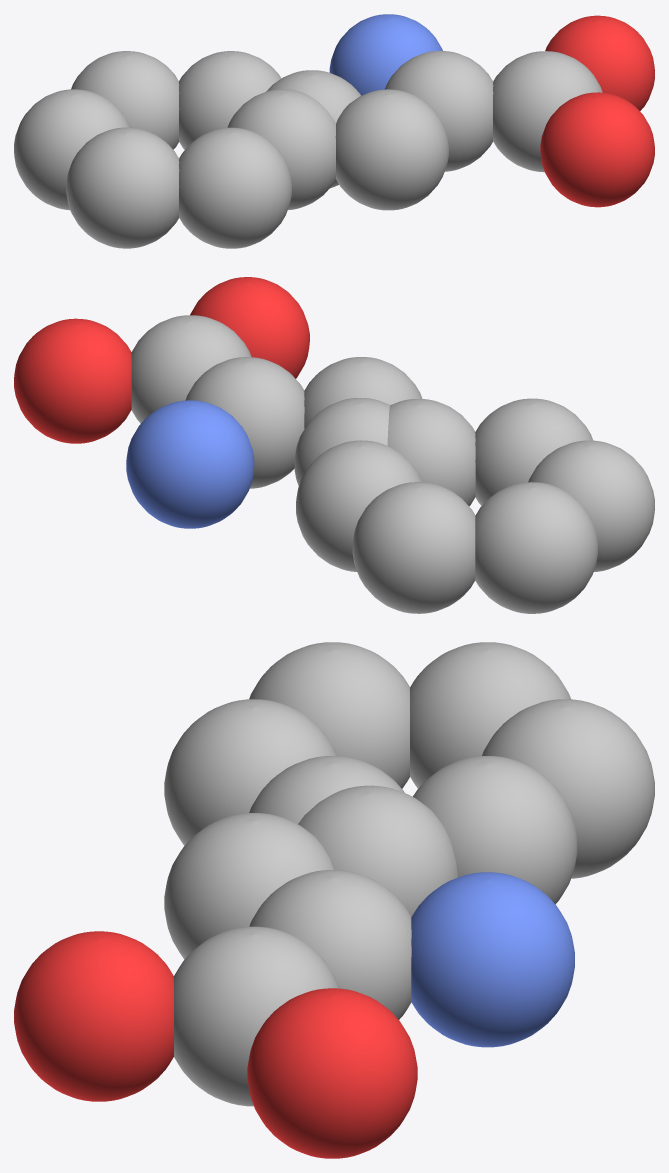
The model's file is phenylalanine.glb.
3 renders of one model, top to bottom at view 1: azimuth 30°, elevation 25°; view 2: azimuth 150°, elevation 25°; view 3: azimuth 270°, elevation 25°, orthographic. The views are drawn at different scales.
Parts seen in each view (by area): view 1: Carbon_ball (×14), Oxygen_ball (×2), Nitrogen_ball; view 2: Carbon_ball (×12), Oxygen_ball (×3), Nitrogen_ball; view 3: Carbon_ball (×17), Oxygen_ball (×4), Nitrogen_ball.
Part boxes in pixels (box(x1,y1,x2,y2)): Carbon_ball (×14): box(14, 51, 602, 248); Oxygen_ball (×2): box(540, 15, 654, 207); Nitrogen_ball: box(329, 14, 442, 95); Carbon_ball (×12): box(131, 315, 654, 613); Oxygen_ball (×3): box(14, 277, 309, 443); Nitrogen_ball: box(126, 400, 254, 528); Carbon_ball (×17): box(164, 642, 654, 1106); Oxygen_ball (×4): box(14, 931, 417, 1158); Nitrogen_ball: box(411, 872, 574, 1047).
Bounding box in the file's own units: 8.41 × 1.54 × 5.48.
